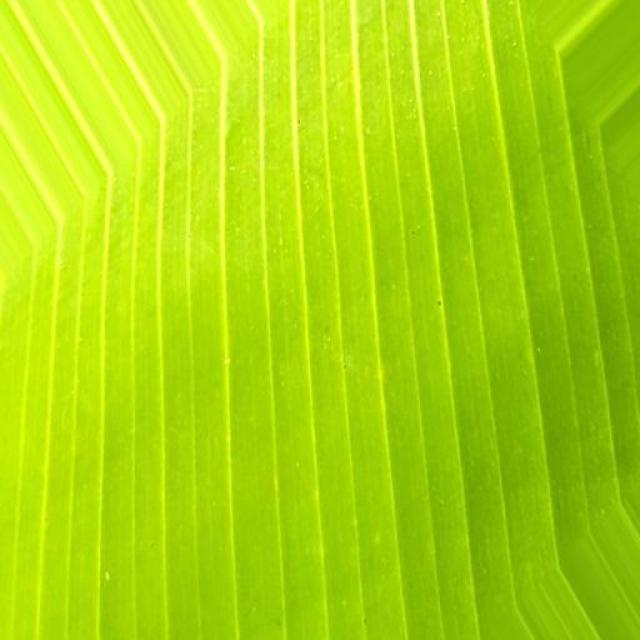Black_leaf_spot: (0, 0, 589, 637)
